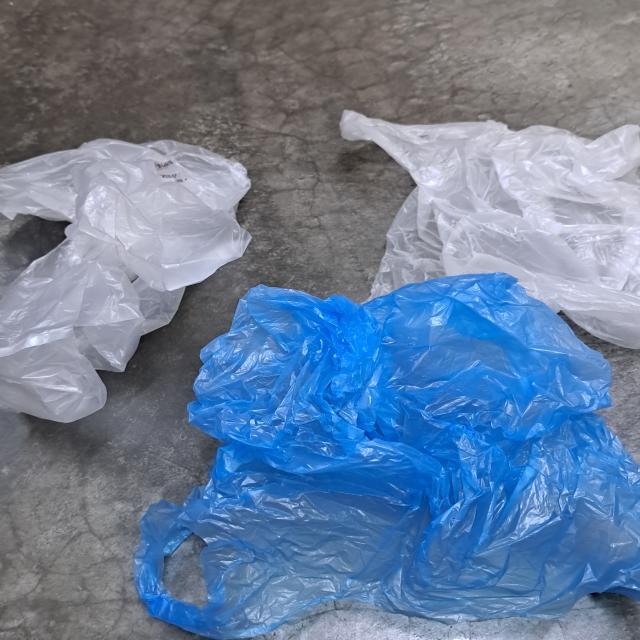plastic bag: (127, 270, 640, 640), (0, 138, 257, 423), (340, 111, 640, 354)
